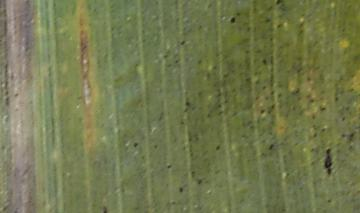tarspot: (321, 145, 336, 180), (264, 139, 278, 153), (214, 140, 224, 156), (177, 183, 189, 195), (228, 14, 239, 27), (177, 37, 190, 48), (194, 174, 204, 188), (130, 139, 141, 151), (292, 86, 303, 98), (173, 57, 184, 69), (182, 96, 192, 109), (258, 106, 268, 119), (164, 160, 175, 171), (99, 204, 112, 213), (260, 57, 269, 69), (178, 118, 187, 130), (332, 94, 342, 104), (195, 59, 206, 68), (318, 104, 327, 114), (340, 113, 350, 122), (320, 126, 328, 137), (312, 129, 320, 140), (275, 91, 284, 100), (275, 22, 286, 29), (264, 16, 272, 25), (273, 1, 284, 7), (326, 197, 335, 204), (152, 144, 159, 152), (261, 84, 269, 91), (243, 48, 251, 55)
